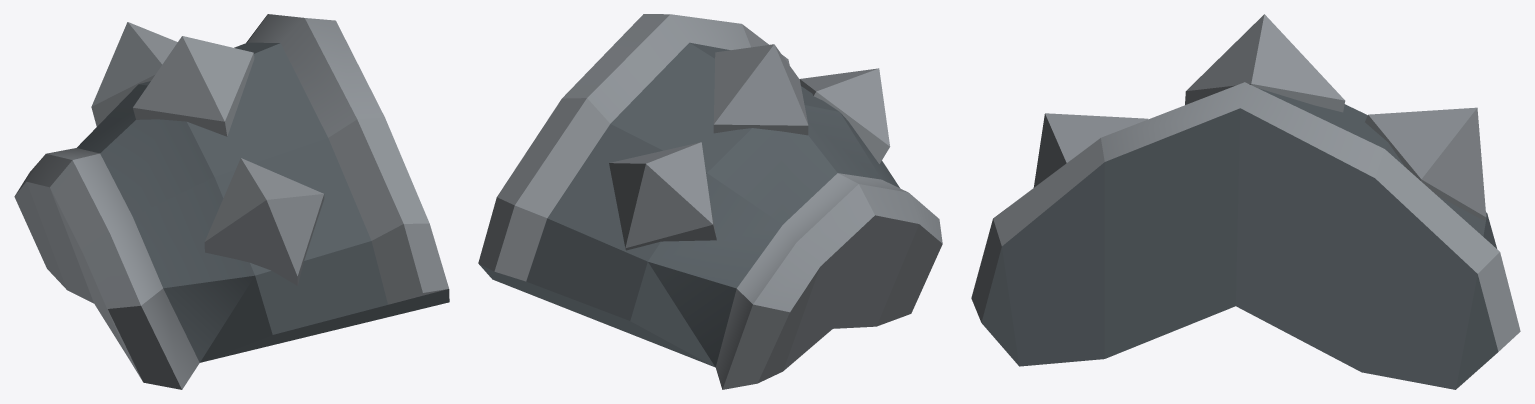
Rendered from Chr_ShoulderAttachRight_05_Static.fbx.
3 renders of one model, left to right at view 1: azimuth 30°, elevation 25°; view 2: azimuth 150°, elevation 25°; view 3: azimuth 270°, elevation 25°, orthographic. The views are drawn at different scales.
Parts seen in each view (by area): view 1: Chr_ShoulderAttachRight_05_Static; view 2: Chr_ShoulderAttachRight_05_Static; view 3: Chr_ShoulderAttachRight_05_Static.
Boxes of the visible parts, box(x1,y1,x2,y2) form: Chr_ShoulderAttachRight_05_Static: box(14, 14, 449, 389); Chr_ShoulderAttachRight_05_Static: box(478, 14, 942, 389); Chr_ShoulderAttachRight_05_Static: box(971, 14, 1520, 389).
Size of the model in its own units: 0.2243 by 0.1902 by 0.284.
